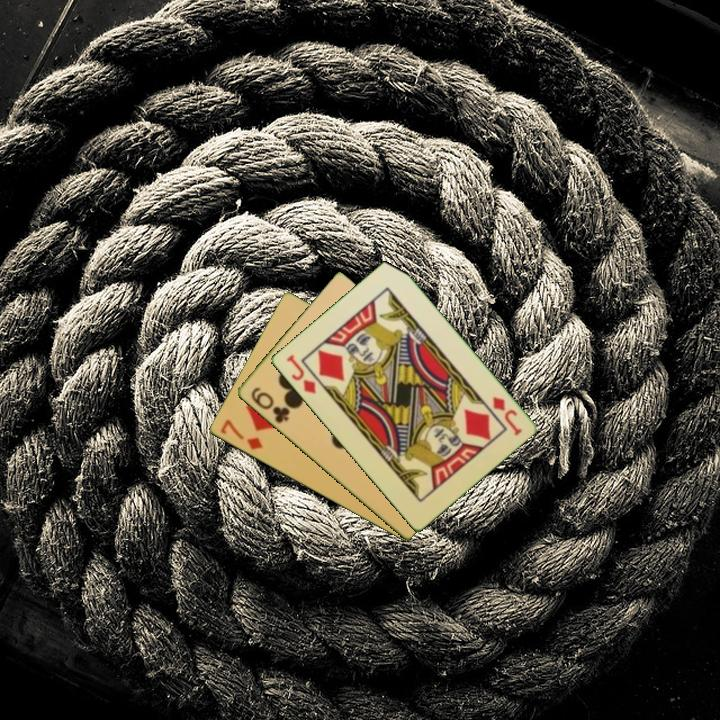6c: (247, 383, 292, 426)
7d: (216, 416, 265, 453)
Jd: (282, 351, 318, 397), (489, 393, 525, 439)
